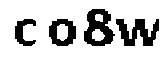8: (81, 5, 115, 49)
c: (7, 17, 39, 50)
o: (47, 16, 79, 50)
w: (114, 14, 160, 50)
